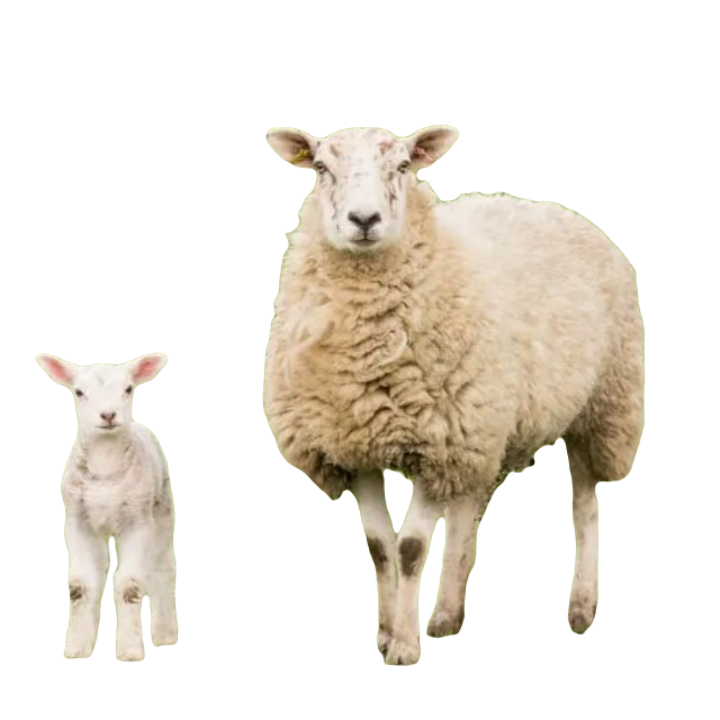Sheep: (256, 120, 648, 670), (29, 344, 190, 669)
